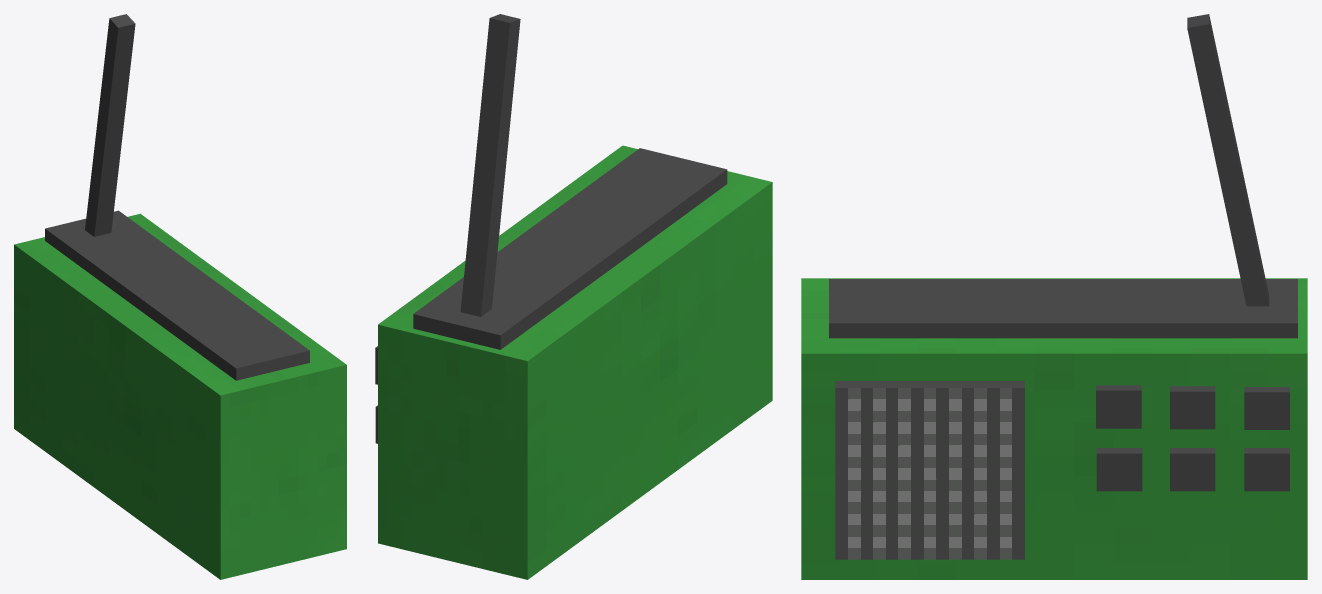
The model's file is radio.obj.
3 renders of one model, left to right at view 1: azimuth 30°, elevation 25°; view 2: azimuth 150°, elevation 25°; view 3: azimuth 270°, elevation 25°, orthographic. The views are drawn at different scales.
Visible parts, largest first — view 1: Cube.009; view 2: Cube.009; view 3: Cube.009.
Part boxes in pixels (x1,y1,x2,y2): Cube.009: [14, 14, 346, 579]; Cube.009: [375, 14, 772, 579]; Cube.009: [801, 14, 1307, 579].
Bounding box in the file's own units: 0.7716 × 2.28 × 2.
